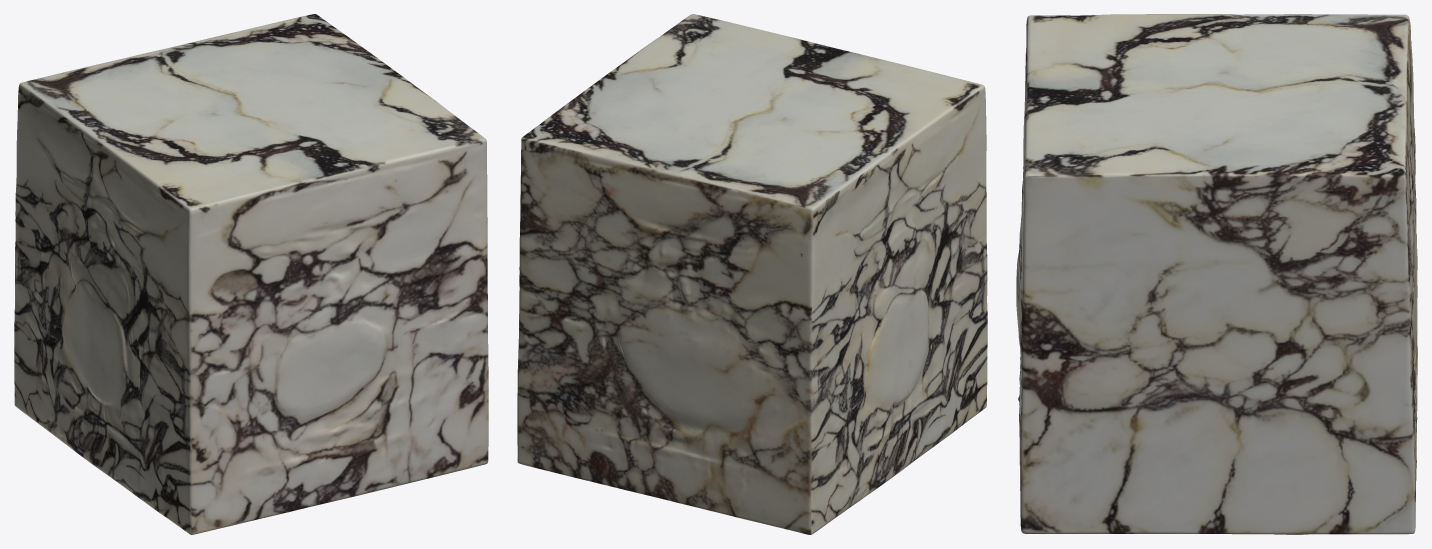
3 renders of one model, left to right at view 1: azimuth 30°, elevation 25°; view 2: azimuth 150°, elevation 25°; view 3: azimuth 270°, elevation 25°, orthographic. The views are drawn at different scales.
Parts seen in each view (by area): view 1: tripo_node_bea55a7b-b03b-49e7-8fdf-e5b9361cb3b3; view 2: tripo_node_bea55a7b-b03b-49e7-8fdf-e5b9361cb3b3; view 3: tripo_node_bea55a7b-b03b-49e7-8fdf-e5b9361cb3b3.
Boxes of the visible parts, left/top/right/bottom form: tripo_node_bea55a7b-b03b-49e7-8fdf-e5b9361cb3b3: left=14, top=14, right=488, bottom=534; tripo_node_bea55a7b-b03b-49e7-8fdf-e5b9361cb3b3: left=517, top=14, right=987, bottom=534; tripo_node_bea55a7b-b03b-49e7-8fdf-e5b9361cb3b3: left=1016, top=14, right=1417, bottom=534.
Size of the model in its own units: 0.8598 by 0.9492 by 0.887.
1 material, 1 textured.
